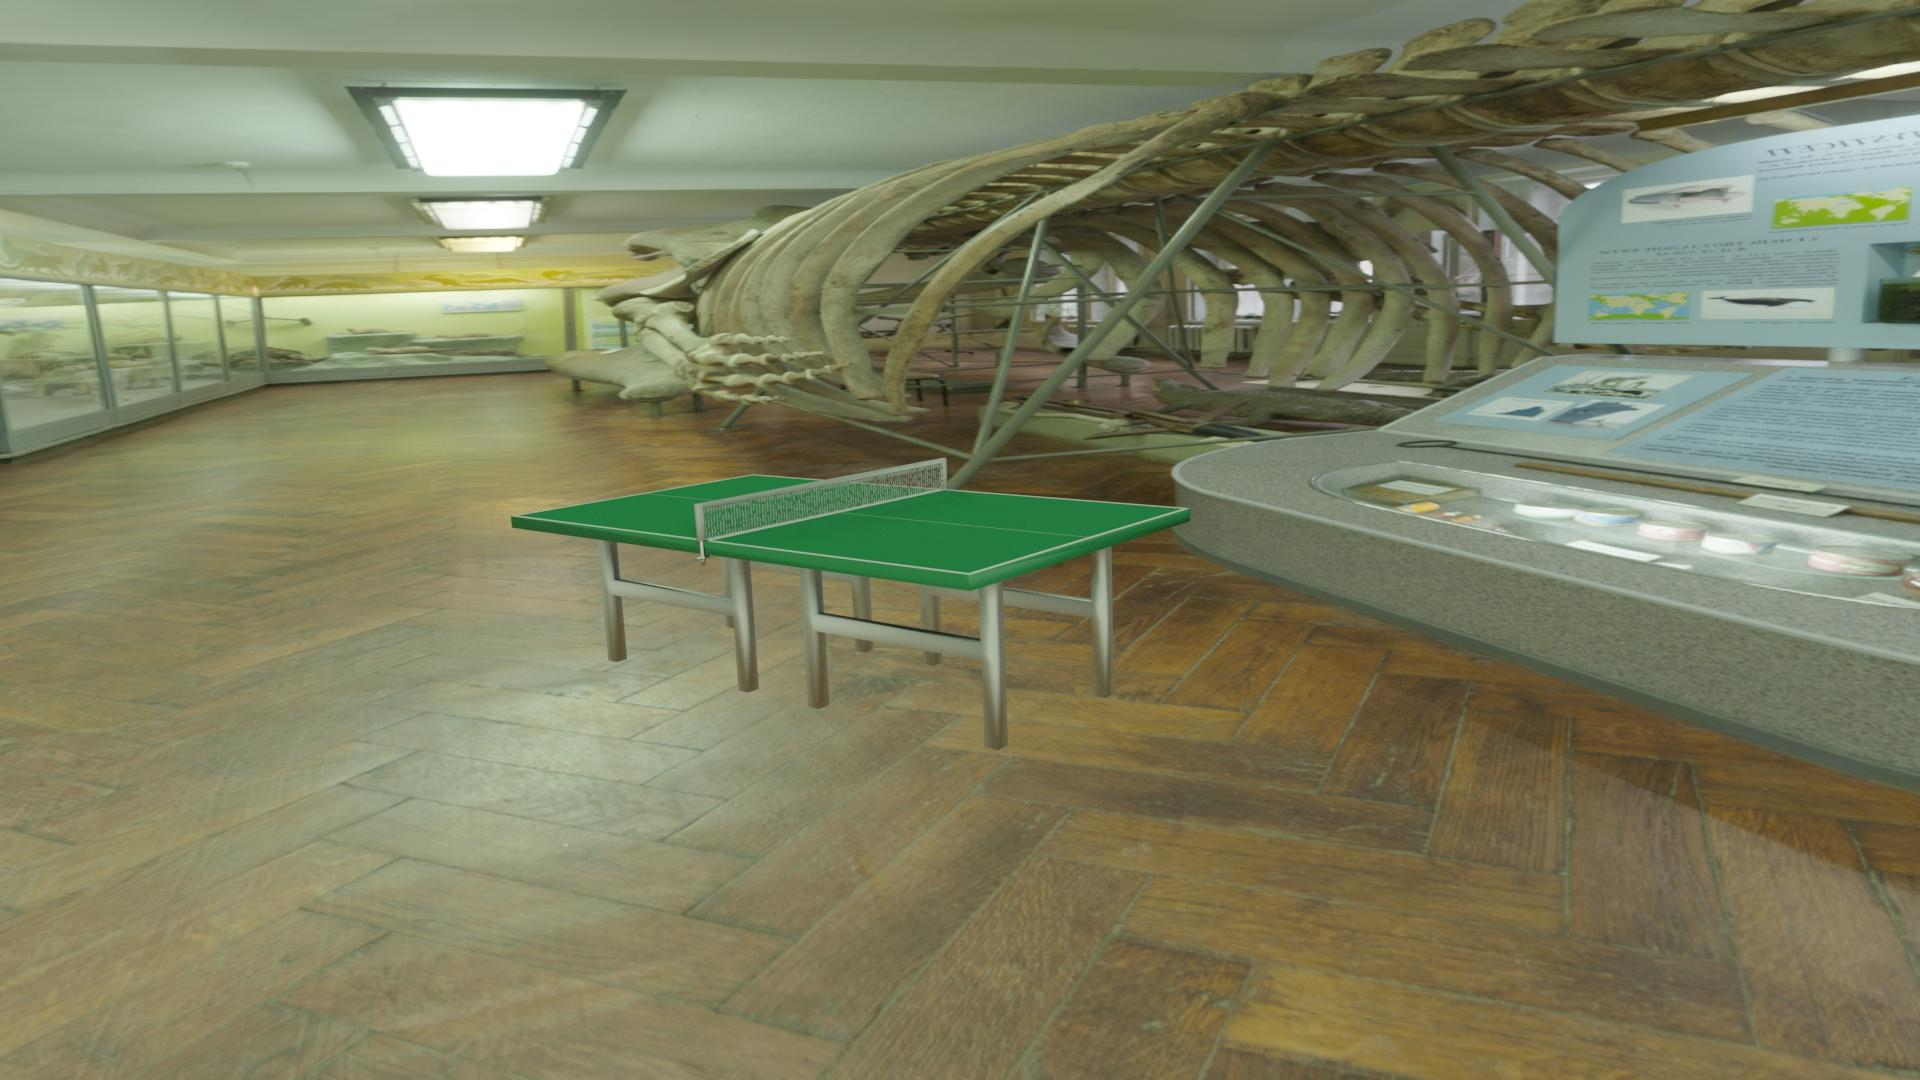table: (517, 475, 1183, 574)
